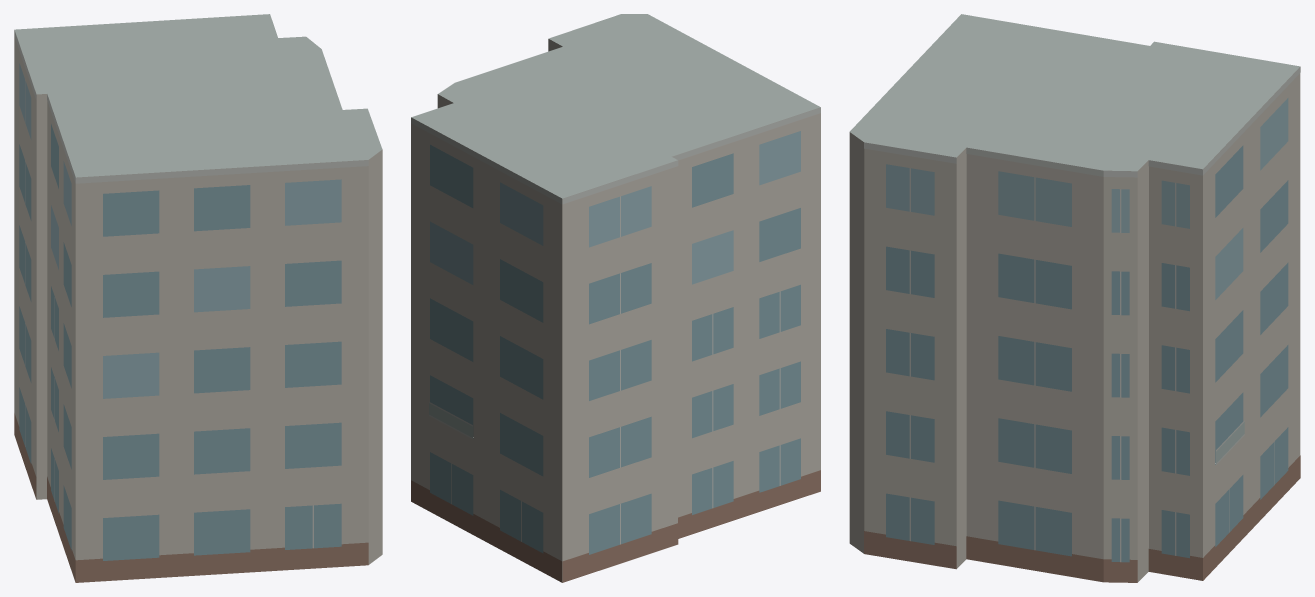
File: survey-upis-32589448.glb
The picture shows the model from 3 angles, left to right: view 1: azimuth 30°, elevation 25°; view 2: azimuth 150°, elevation 25°; view 3: azimuth 270°, elevation 25°; orthographic projection. The views are drawn at different scales.
Visible parts, largest first — view 1: survey-upis-32589448.tmp; view 2: survey-upis-32589448.tmp; view 3: survey-upis-32589448.tmp.
Part boxes in pixels (bbox=[...]): survey-upis-32589448.tmp: bbox=[14, 14, 382, 582]; survey-upis-32589448.tmp: bbox=[411, 14, 820, 582]; survey-upis-32589448.tmp: bbox=[849, 14, 1300, 582].
Bounding box in the file's own units: 13.05 × 15.92 × 15.82.
